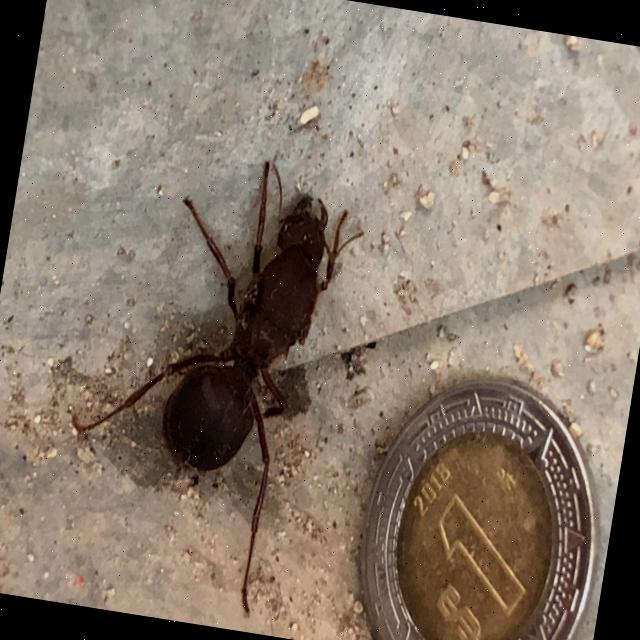Alive-Female-Dealate: (46, 134, 373, 626)
